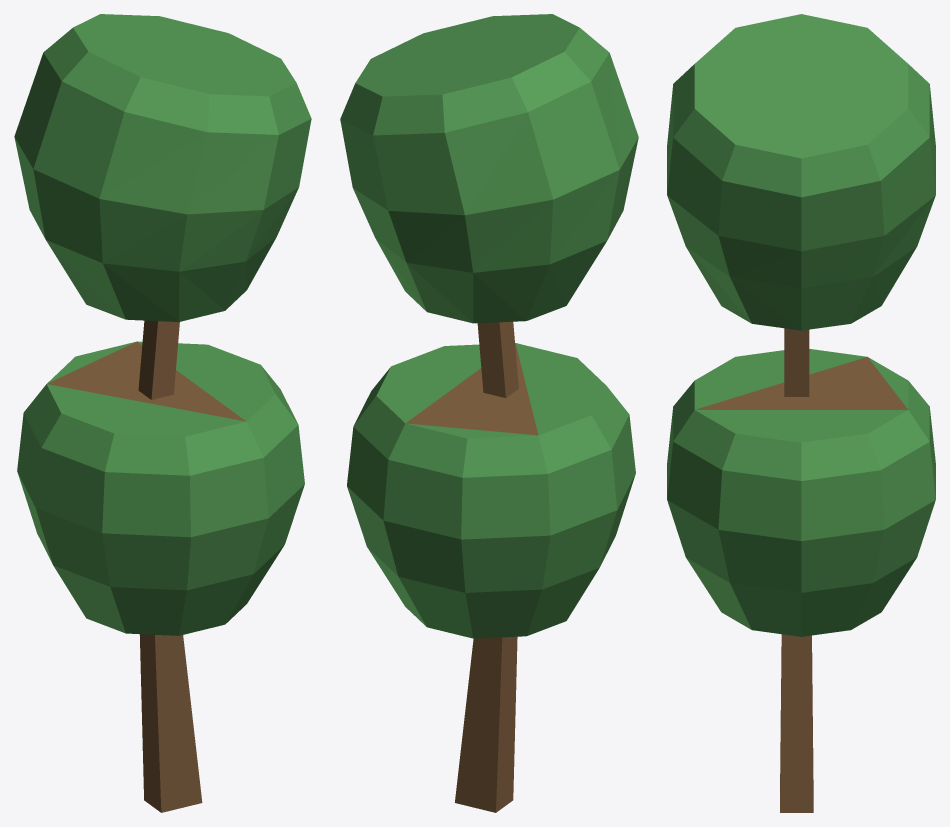
Rendered from tree3d-020.glb.
3 views of the same model, side by side, from view 1: azimuth 30°, elevation 25°; view 2: azimuth 150°, elevation 25°; view 3: azimuth 270°, elevation 25° (orthographic). The views are drawn at different scales.
Visible parts, largest first — view 1: tree3d-020; view 2: tree3d-020; view 3: tree3d-020.
Boxes of the visible parts, x1,y1,x2,y2 form: tree3d-020: [14, 14, 311, 812]; tree3d-020: [340, 14, 638, 812]; tree3d-020: [667, 14, 935, 812].
Size of the model in its own units: 0.3538 by 1 by 0.3248.
